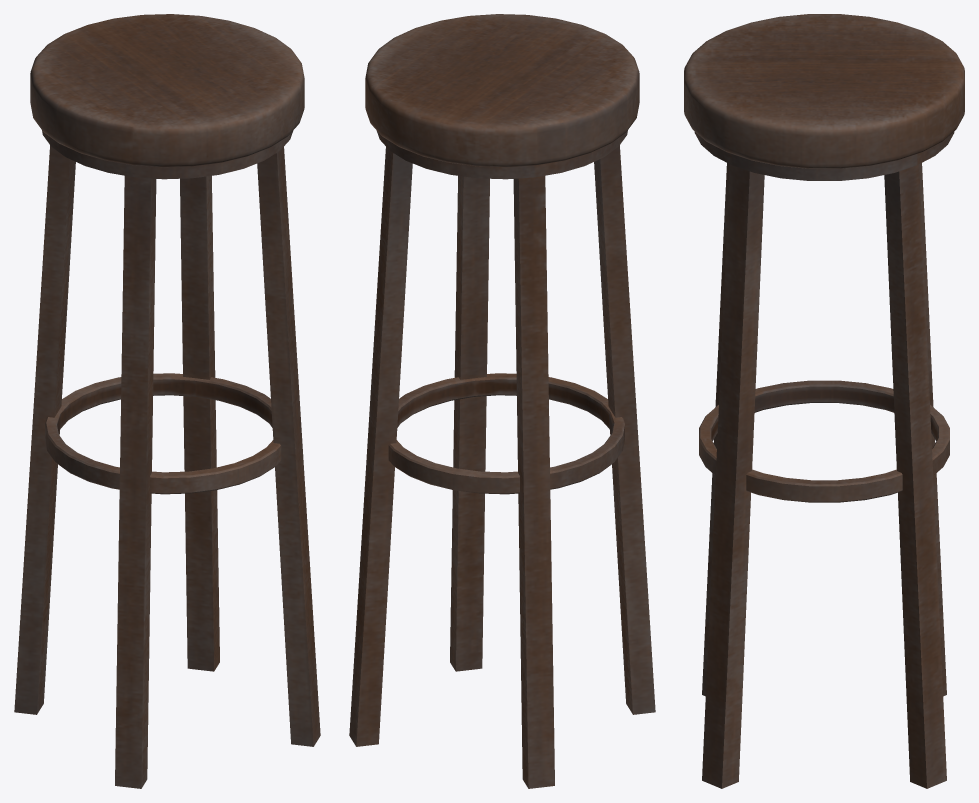
The model's file is Stool.FBX.
3 renders of one model, left to right at view 1: azimuth 30°, elevation 25°; view 2: azimuth 150°, elevation 25°; view 3: azimuth 270°, elevation 25°, orthographic. The views are drawn at different scales.
Parts seen in each view (by area): view 1: Stool; view 2: Stool; view 3: Stool.
Part boxes in pixels (x1,y1,x2,y2): Stool: (14,14,320,788); Stool: (349,14,655,788); Stool: (684,14,964,788).
Bounding box in the file's own units: 36.62 × 97.08 × 37.02.
